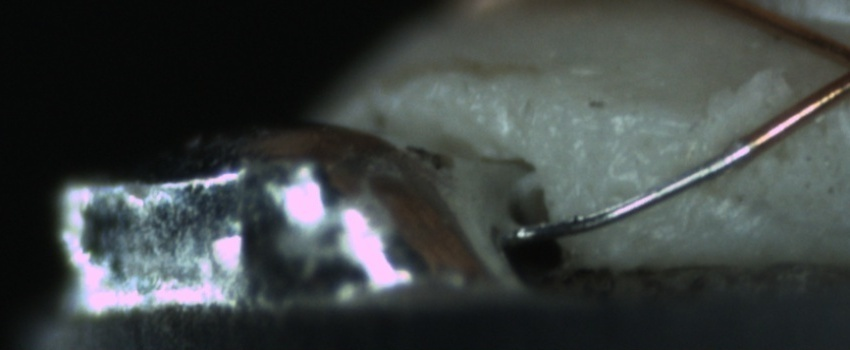TS: (514, 140, 757, 244)
TTCW: (514, 114, 809, 247)
